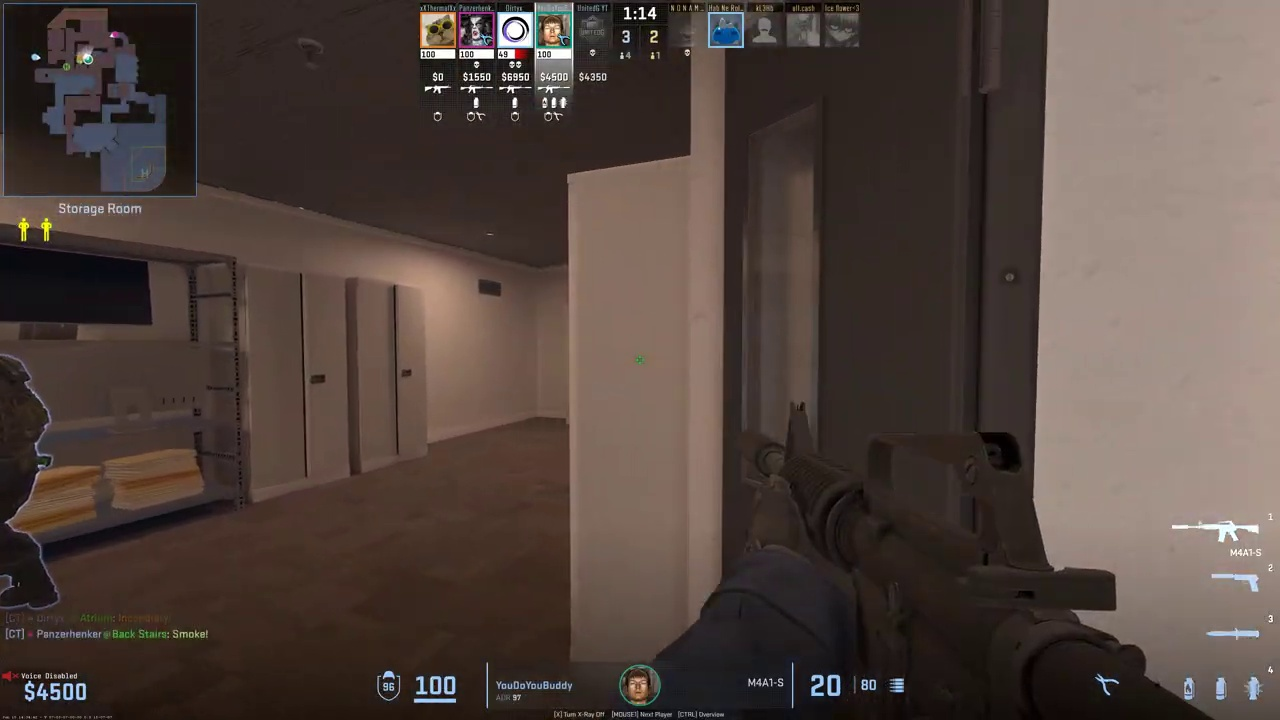CT: (0, 323, 52, 618)
